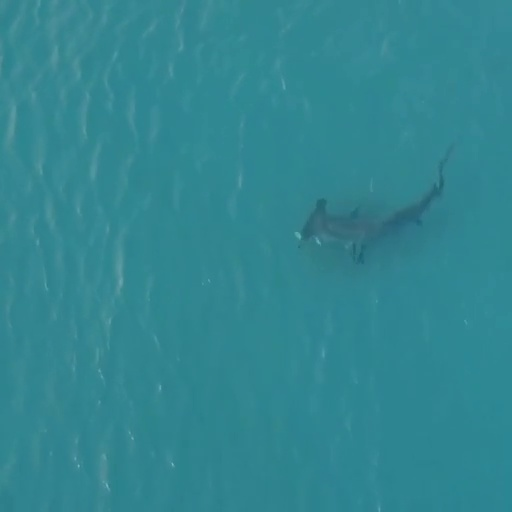shark: (296, 140, 461, 268)
